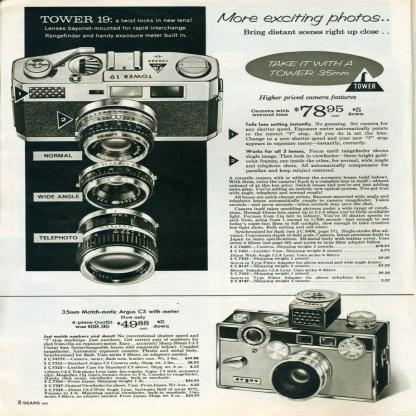Camera: (11, 45, 217, 165), (203, 301, 397, 409)
